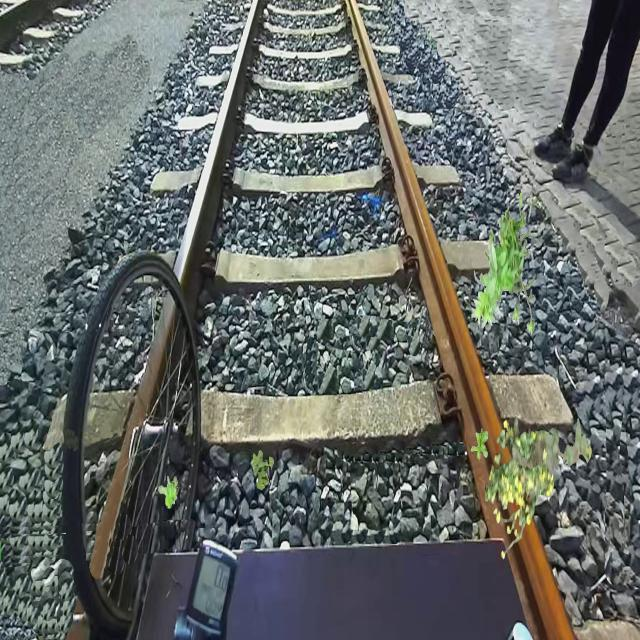Plant: (485, 420, 560, 560), (471, 193, 536, 336), (506, 416, 592, 484), (251, 450, 275, 491), (158, 476, 178, 509), (471, 429, 488, 461)
